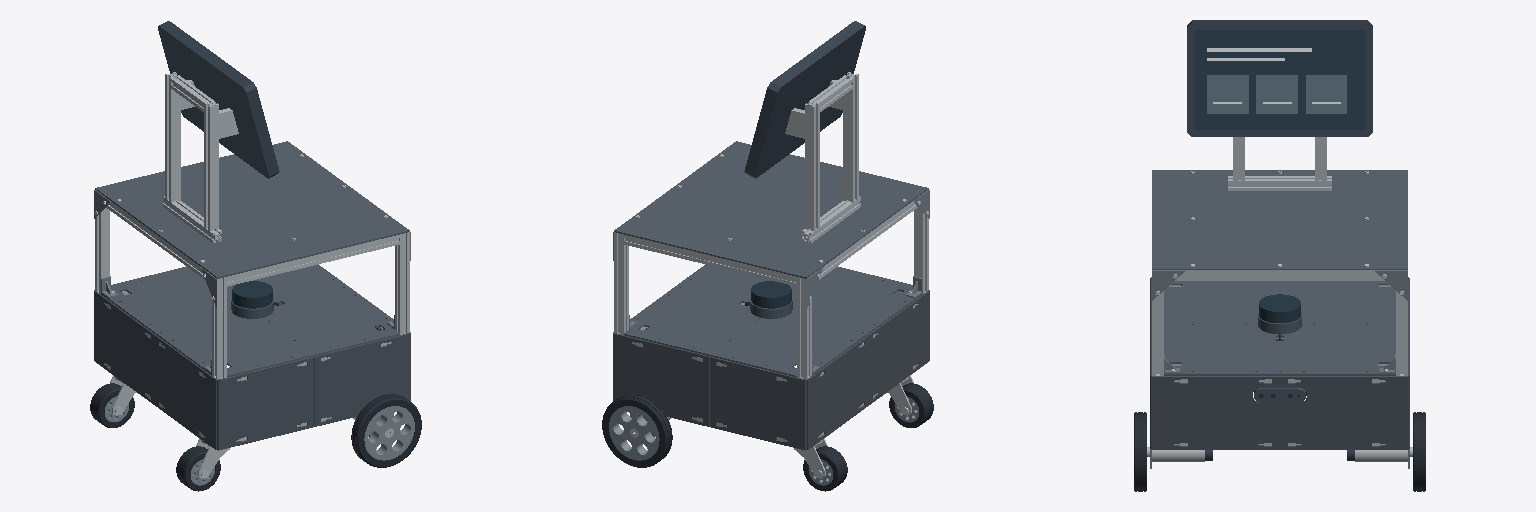
The robot description file, URDF, robot "oh_my_mobilerobot":
<?xml version='1.0' encoding='utf-8'?>
<robot name="oh_my_mobilerobot">
  <material name="color_accent">
    <color rgba="0.462745098 0.537254902 0.5803921569 1" />
  </material>
  <material name="color_arm">
    <color rgba="0.737254902 0.7647058824 0.7843137255 1" />
  </material>
  <material name="color_bracket">
    <color rgba="0.4941176471 0.537254902 0.5764705882 1" />
  </material>
  <material name="color_cover">
    <color rgba="0.3490196078 0.3803921569 0.4196078431 1" />
  </material>
  <material name="color_deck">
    <color rgba="0.3843137255 0.4235294118 0.462745098 1" />
  </material>
  <material name="color_display">
    <color rgba="0.2705882353 0.3176470588 0.3647058824 1" />
  </material>
  <material name="color_fastener">
    <color rgba="0.7647058824 0.7921568627 0.8156862745 1" />
  </material>
  <material name="color_hub">
    <color rgba="0.5490196078 0.5960784314 0.6352941176 1" />
  </material>
  <material name="color_joint">
    <color rgba="0.262745098 0.3058823529 0.3490196078 1" />
  </material>
  <material name="color_metal">
    <color rgba="0.7333333333 0.7607843137 0.7843137255 1" />
  </material>
  <material name="color_optic">
    <color rgba="0.2039215686 0.2745098039 0.3215686275 1" />
  </material>
  <material name="color_rubber">
    <color rgba="0.2117647059 0.2392156863 0.2705882353 1" />
  </material>
  <material name="color_screen">
    <color rgba="0.2078431373 0.2862745098 0.3411764706 1" />
  </material>
  <material name="color_screen_card">
    <color rgba="0.3960784314 0.4745098039 0.5176470588 1" />
  </material>
  <material name="color_screen_text">
    <color rgba="0.8823529412 0.9058823529 0.9215686275 1" />
  </material>
  <material name="color_sensor">
    <color rgba="0.3254901961 0.3764705882 0.4235294118 1" />
  </material>
  <link name="base_footprint" />
  <link name="base_link">
    <visual name="base_link_bracket">
      <geometry>
        <mesh filename="package://oh_my_mobilerobot_description/meshes/visual/base_link/bracket.stl" scale="1 1 1" />
      </geometry>
      <material name="color_bracket" />
    </visual>
    <visual name="base_link_cover">
      <geometry>
        <mesh filename="package://oh_my_mobilerobot_description/meshes/visual/base_link/cover.stl" scale="1 1 1" />
      </geometry>
      <material name="color_cover" />
    </visual>
    <visual name="base_link_deck">
      <geometry>
        <mesh filename="package://oh_my_mobilerobot_description/meshes/visual/base_link/deck.stl" scale="1 1 1" />
      </geometry>
      <material name="color_deck" />
    </visual>
    <visual name="base_link_fastener">
      <geometry>
        <mesh filename="package://oh_my_mobilerobot_description/meshes/visual/base_link/fastener.stl" scale="1 1 1" />
      </geometry>
      <material name="color_fastener" />
    </visual>
    <visual name="base_link_joint">
      <geometry>
        <mesh filename="package://oh_my_mobilerobot_description/meshes/visual/base_link/joint.stl" scale="1 1 1" />
      </geometry>
      <material name="color_joint" />
    </visual>
    <visual name="base_link_metal">
      <geometry>
        <mesh filename="package://oh_my_mobilerobot_description/meshes/visual/base_link/metal.stl" scale="1 1 1" />
      </geometry>
      <material name="color_metal" />
    </visual>
    <collision>
      <geometry>
        <box size="0.406 0.446 0.2" />
      </geometry>
      <origin rpy="0 0 0" xyz="-0.14 0 0.046" />
    </collision>
  </link>
  <link name="left_wheel_link">
    <visual name="left_wheel_link_hub">
      <geometry>
        <mesh filename="package://oh_my_mobilerobot_description/meshes/visual/left_wheel_link/hub.stl" scale="1 1 1" />
      </geometry>
      <material name="color_hub" />
    </visual>
    <visual name="left_wheel_link_metal">
      <geometry>
        <mesh filename="package://oh_my_mobilerobot_description/meshes/visual/left_wheel_link/metal.stl" scale="1 1 1" />
      </geometry>
      <material name="color_metal" />
    </visual>
    <visual name="left_wheel_link_rubber">
      <geometry>
        <mesh filename="package://oh_my_mobilerobot_description/meshes/visual/left_wheel_link/rubber.stl" scale="1 1 1" />
      </geometry>
      <material name="color_rubber" />
    </visual>
    <collision>
      <geometry>
        <cylinder length="0.024" radius="0.068" />
      </geometry>
      <origin rpy="1.570796327 0 0" xyz="0 0 0" />
    </collision>
  </link>
  <link name="right_wheel_link">
    <visual name="right_wheel_link_hub">
      <geometry>
        <mesh filename="package://oh_my_mobilerobot_description/meshes/visual/right_wheel_link/hub.stl" scale="1 1 1" />
      </geometry>
      <material name="color_hub" />
    </visual>
    <visual name="right_wheel_link_metal">
      <geometry>
        <mesh filename="package://oh_my_mobilerobot_description/meshes/visual/right_wheel_link/metal.stl" scale="1 1 1" />
      </geometry>
      <material name="color_metal" />
    </visual>
    <visual name="right_wheel_link_rubber">
      <geometry>
        <mesh filename="package://oh_my_mobilerobot_description/meshes/visual/right_wheel_link/rubber.stl" scale="1 1 1" />
      </geometry>
      <material name="color_rubber" />
    </visual>
    <collision>
      <geometry>
        <cylinder length="0.024" radius="0.068" />
      </geometry>
      <origin rpy="1.570796327 0 0" xyz="0 0 0" />
    </collision>
  </link>
  <link name="left_caster_swivel_link">
    <visual name="left_caster_swivel_link_fastener">
      <geometry>
        <mesh filename="package://oh_my_mobilerobot_description/meshes/visual/left_caster_swivel_link/fastener.stl" scale="1 1 1" />
      </geometry>
      <material name="color_fastener" />
    </visual>
    <visual name="left_caster_swivel_link_metal">
      <geometry>
        <mesh filename="package://oh_my_mobilerobot_description/meshes/visual/left_caster_swivel_link/metal.stl" scale="1 1 1" />
      </geometry>
      <material name="color_metal" />
    </visual>
    <collision>
      <geometry>
        <box size="0.0715 0.053 0.075" />
      </geometry>
      <origin rpy="0 0 0" xyz="-0.00925 0 -0.0375" />
    </collision>
  </link>
  <link name="right_caster_swivel_link">
    <visual name="right_caster_swivel_link_fastener">
      <geometry>
        <mesh filename="package://oh_my_mobilerobot_description/meshes/visual/right_caster_swivel_link/fastener.stl" scale="1 1 1" />
      </geometry>
      <material name="color_fastener" />
    </visual>
    <visual name="right_caster_swivel_link_metal">
      <geometry>
        <mesh filename="package://oh_my_mobilerobot_description/meshes/visual/right_caster_swivel_link/metal.stl" scale="1 1 1" />
      </geometry>
      <material name="color_metal" />
    </visual>
    <collision>
      <geometry>
        <box size="0.0715 0.053 0.075" />
      </geometry>
      <origin rpy="0 0 0" xyz="-0.00925 0 -0.0375" />
    </collision>
  </link>
  <link name="left_caster_wheel_link">
    <visual name="left_caster_wheel_link_hub">
      <geometry>
        <mesh filename="package://oh_my_mobilerobot_description/meshes/visual/left_caster_wheel_link/hub.stl" scale="1 1 1" />
      </geometry>
      <material name="color_hub" />
    </visual>
    <visual name="left_caster_wheel_link_rubber">
      <geometry>
        <mesh filename="package://oh_my_mobilerobot_description/meshes/visual/left_caster_wheel_link/rubber.stl" scale="1 1 1" />
      </geometry>
      <material name="color_rubber" />
    </visual>
    <collision>
      <geometry>
        <cylinder length="0.033" radius="0.038" />
      </geometry>
      <origin rpy="1.570796327 0 0" xyz="0 0 0" />
    </collision>
  </link>
  <link name="right_caster_wheel_link">
    <visual name="right_caster_wheel_link_hub">
      <geometry>
        <mesh filename="package://oh_my_mobilerobot_description/meshes/visual/right_caster_wheel_link/hub.stl" scale="1 1 1" />
      </geometry>
      <material name="color_hub" />
    </visual>
    <visual name="right_caster_wheel_link_rubber">
      <geometry>
        <mesh filename="package://oh_my_mobilerobot_description/meshes/visual/right_caster_wheel_link/rubber.stl" scale="1 1 1" />
      </geometry>
      <material name="color_rubber" />
    </visual>
    <collision>
      <geometry>
        <cylinder length="0.033" radius="0.038" />
      </geometry>
      <origin rpy="1.570796327 0 0" xyz="0 0 0" />
    </collision>
  </link>
  <link name="lidar_link">
    <visual name="lidar_link_optic">
      <geometry>
        <mesh filename="package://oh_my_mobilerobot_description/meshes/visual/lidar_link/optic.stl" scale="1 1 1" />
      </geometry>
      <material name="color_optic" />
    </visual>
    <visual name="lidar_link_rubber">
      <geometry>
        <mesh filename="package://oh_my_mobilerobot_description/meshes/visual/lidar_link/rubber.stl" scale="1 1 1" />
      </geometry>
      <material name="color_rubber" />
    </visual>
    <visual name="lidar_link_sensor">
      <geometry>
        <mesh filename="package://oh_my_mobilerobot_description/meshes/visual/lidar_link/sensor.stl" scale="1 1 1" />
      </geometry>
      <material name="color_sensor" />
    </visual>
    <collision>
      <geometry>
        <box size="0.09399897908 0.07598632342 0.062" />
      </geometry>
      <origin rpy="0 0 0" xyz="0.009000510459 0 0.01" />
    </collision>
  </link>
  <link name="camera_link">
    <visual name="camera_link_optic">
      <geometry>
        <mesh filename="package://oh_my_mobilerobot_description/meshes/visual/camera_link/optic.stl" scale="1 1 1" />
      </geometry>
      <material name="color_optic" />
    </visual>
    <visual name="camera_link_rubber">
      <geometry>
        <mesh filename="package://oh_my_mobilerobot_description/meshes/visual/camera_link/rubber.stl" scale="1 1 1" />
      </geometry>
      <material name="color_rubber" />
    </visual>
    <visual name="camera_link_sensor">
      <geometry>
        <mesh filename="package://oh_my_mobilerobot_description/meshes/visual/camera_link/sensor.stl" scale="1 1 1" />
      </geometry>
      <material name="color_sensor" />
    </visual>
    <collision>
      <geometry>
        <box size="0.06811 0.1675 0.025" />
      </geometry>
      <origin rpy="0 0 0" xyz="-0.033995 0.03875 0" />
    </collision>
  </link>
  <link name="laser_frame" />
  <link name="camera_optical_frame" />
  <joint name="base_footprint_joint" type="fixed">
    <parent link="base_footprint" />
    <child link="base_link" />
    <origin rpy="0 0 0" xyz="0 0 0.101" />
  </joint>
  <joint name="left_wheel_joint" type="continuous">
    <parent link="base_link" />
    <child link="left_wheel_link" />
    <origin rpy="0 0 0" xyz="0 0.24 -0.033" />
    <axis xyz="0 1 0" />
  </joint>
  <joint name="left_caster_swivel_joint" type="continuous">
    <parent link="base_link" />
    <child link="left_caster_swivel_link" />
    <origin rpy="0 0 0" xyz="-0.30775 0.155 0" />
    <axis xyz="0 0 1" />
  </joint>
  <joint name="left_caster_wheel_joint" type="continuous">
    <parent link="left_caster_swivel_link" />
    <child link="left_caster_wheel_link" />
    <origin rpy="0 0 0" xyz="-0.034 0 -0.063" />
    <axis xyz="0 1 0" />
  </joint>
  <joint name="right_wheel_joint" type="continuous">
    <parent link="base_link" />
    <child link="right_wheel_link" />
    <origin rpy="0 0 0" xyz="0 -0.24 -0.033" />
    <axis xyz="0 1 0" />
  </joint>
  <joint name="right_caster_swivel_joint" type="continuous">
    <parent link="base_link" />
    <child link="right_caster_swivel_link" />
    <origin rpy="0 0 0" xyz="-0.30775 -0.155 0" />
    <axis xyz="0 0 1" />
  </joint>
  <joint name="right_caster_wheel_joint" type="continuous">
    <parent link="right_caster_swivel_link" />
    <child link="right_caster_wheel_link" />
    <origin rpy="0 0 0" xyz="-0.034 0 -0.063" />
    <axis xyz="0 1 0" />
  </joint>
  <joint name="lidar_joint" type="fixed">
    <parent link="base_link" />
    <child link="lidar_link" />
    <origin rpy="0 0 0" xyz="-0.14 0 0.143" />
  </joint>
  <joint name="laser_frame_joint" type="fixed">
    <parent link="lidar_link" />
    <child link="laser_frame" />
    <origin rpy="0 0 0" xyz="0 0 0.0303" />
  </joint>
  <joint name="camera_joint" type="fixed">
    <parent link="base_link" />
    <child link="camera_link" />
    <origin rpy="0 0 0" xyz="0.06505 0 0.1035" />
  </joint>
  <joint name="camera_optical_joint" type="fixed">
    <parent link="camera_link" />
    <child link="camera_optical_frame" />
    <origin rpy="-1.570796327 0 -1.570796327" xyz="0 0 0" />
  </joint>
  <link name="module_link">
    <visual name="module_link_bracket">
      <geometry>
        <mesh filename="package://oh_my_mobilerobot_description/meshes/visual/display_module/bracket.stl" scale="1 1 1" />
      </geometry>
      <material name="color_bracket" />
    </visual>
    <visual name="module_link_deck">
      <geometry>
        <mesh filename="package://oh_my_mobilerobot_description/meshes/visual/display_module/deck.stl" scale="1 1 1" />
      </geometry>
      <material name="color_deck" />
    </visual>
    <visual name="module_link_display">
      <geometry>
        <mesh filename="package://oh_my_mobilerobot_description/meshes/visual/display_module/display.stl" scale="1 1 1" />
      </geometry>
      <material name="color_display" />
    </visual>
    <visual name="module_link_fastener">
      <geometry>
        <mesh filename="package://oh_my_mobilerobot_description/meshes/visual/display_module/fastener.stl" scale="1 1 1" />
      </geometry>
      <material name="color_fastener" />
    </visual>
    <visual name="module_link_metal">
      <geometry>
        <mesh filename="package://oh_my_mobilerobot_description/meshes/visual/display_module/metal.stl" scale="1 1 1" />
      </geometry>
      <material name="color_metal" />
    </visual>
    <visual name="module_link_screen">
      <geometry>
        <mesh filename="package://oh_my_mobilerobot_description/meshes/visual/display_module/screen.stl" scale="1 1 1" />
      </geometry>
      <material name="color_screen" />
    </visual>
    <visual name="module_link_screen_card">
      <geometry>
        <mesh filename="package://oh_my_mobilerobot_description/meshes/visual/display_module/screen_card.stl" scale="1 1 1" />
      </geometry>
      <material name="color_screen_card" />
    </visual>
    <visual name="module_link_screen_text">
      <geometry>
        <mesh filename="package://oh_my_mobilerobot_description/meshes/visual/display_module/screen_text.stl" scale="1 1 1" />
      </geometry>
      <material name="color_screen_text" />
    </visual>
  </link>
  <joint name="module_joint" type="fixed">
    <parent link="base_link" />
    <child link="module_link" />
    <origin rpy="0 0 0" xyz="-0.14 0 0.143" />
  </joint>
</robot>

--- Facts derived from the render (not from the file) ---
The picture shows the robot from 3 angles, left to right: view 1: azimuth 30°, elevation 25°; view 2: azimuth 150°, elevation 25°; view 3: azimuth 270°, elevation 25°; orthographic projection.
Robot: oh_my_mobilerobot — 13 links, 12 joints (6 continuous, 6 fixed); root link base_footprint; default pose: all joints at 0.
Links seen in each view (by area): view 1: module_link, base_link, right_wheel_link, lidar_link, right_caster_wheel_link, left_caster_wheel_link; view 2: module_link, base_link, left_wheel_link, lidar_link, left_caster_wheel_link, right_caster_wheel_link; view 3: module_link, base_link, lidar_link, left_wheel_link, right_wheel_link, camera_link.
Link boxes in pixels (x1,y1,x2,y2): module_link: (94,21,410,379); base_link: (94,264,410,450); right_wheel_link: (351,394,421,467); lidar_link: (231,281,278,318); right_caster_wheel_link: (176,446,220,491); left_caster_wheel_link: (90,383,134,427); module_link: (613,21,929,379); base_link: (613,264,929,450); left_wheel_link: (602,394,672,467); lidar_link: (745,281,792,318); left_caster_wheel_link: (803,446,847,491); right_caster_wheel_link: (889,383,933,427); module_link: (1152,20,1407,375); base_link: (1150,277,1409,468); lidar_link: (1258,294,1301,340); left_wheel_link: (1410,412,1425,491); right_wheel_link: (1134,412,1149,491); camera_link: (1254,388,1306,402).
Bounding box of the posed robot: 0.4478 × 0.504 × 0.7776 m (x, y, z).
33 mesh visuals loaded from 34 distinct referenced files (33 binary STL); not drawn: 1 (reference not matched to a file when rendering).
